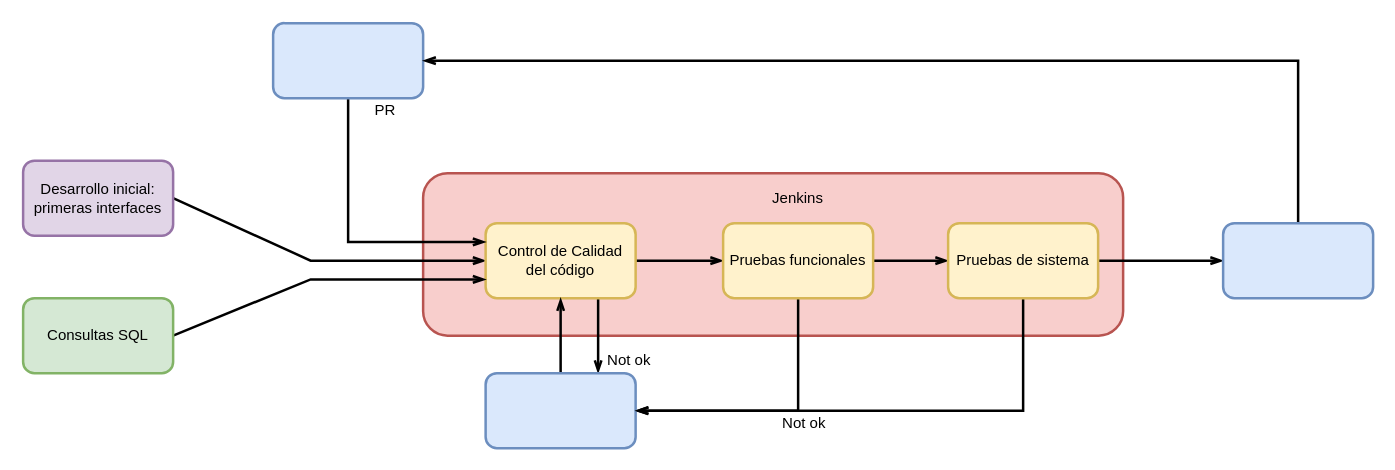
The diagram is 1395 pixels wide and 470 high, and some of its shapes have lost their labels. The centre of each missing label's shape, as x and y in pixels:
Nueva versión del código: the point at 1297,260
Refinamientos del código: the point at 347,60
Revisión y mejora de código de la PR: the point at 560,410
